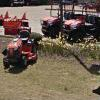Tractor: (3, 30, 47, 78)
